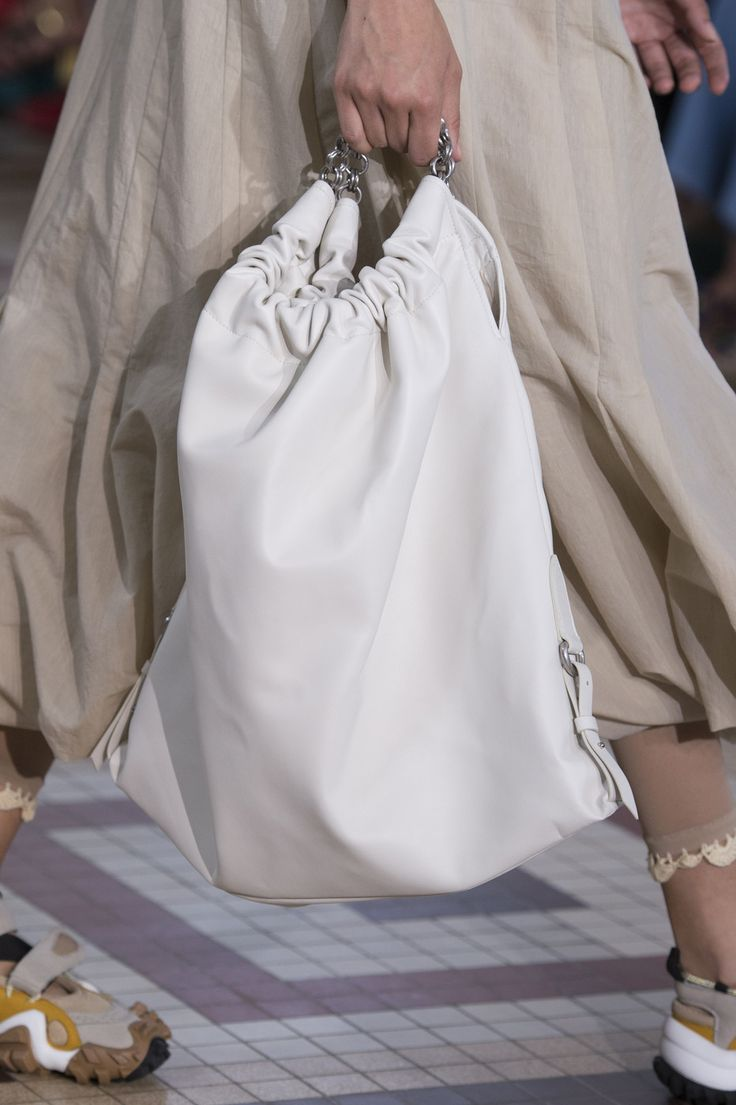nylon: (1, 3, 736, 905)
